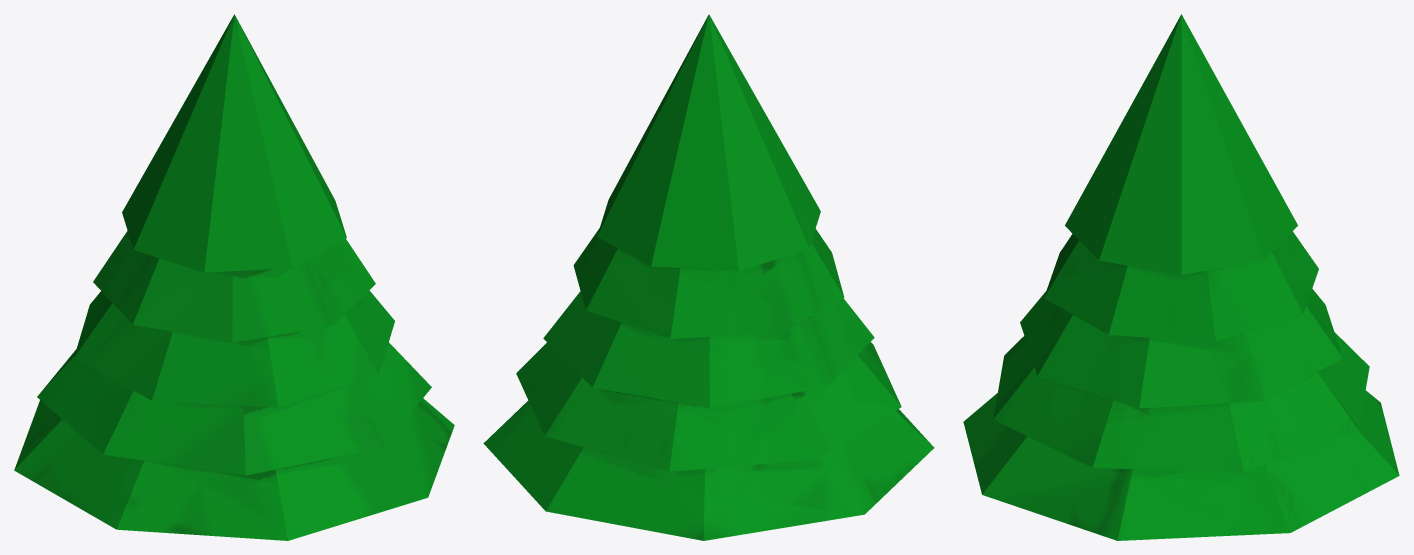
Rendered from tree.fbx.
3 views of the same model, side by side, from view 1: azimuth 30°, elevation 25°; view 2: azimuth 150°, elevation 25°; view 3: azimuth 270°, elevation 25° (orthographic).
Parts seen in each view (by area): view 1: Cone.005; view 2: Cone.005; view 3: Cone.005.
Boxes of the visible parts, x1=… form: Cone.005: x1=14, y1=14, x2=454, y2=540; Cone.005: x1=483, y1=14, x2=934, y2=540; Cone.005: x1=963, y1=14, x2=1399, y2=540.
Bounding box in the file's own units: 374 × 434 × 374.
Materials: 1 (1 with a texture image).
